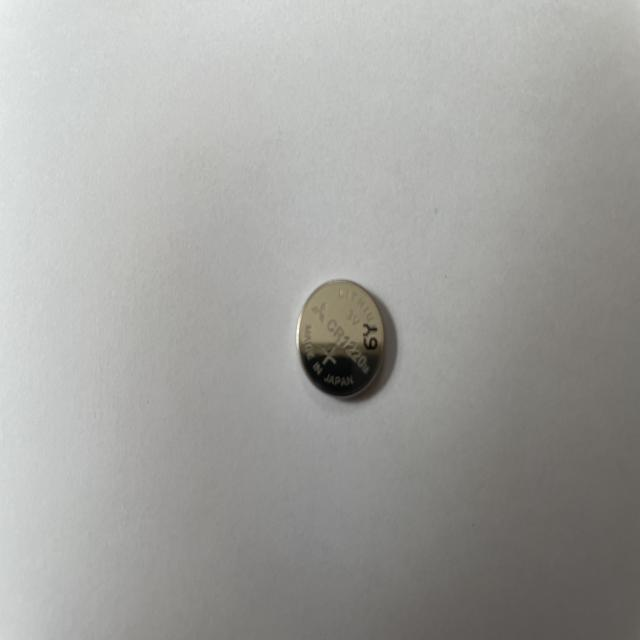COIN: (292, 275, 388, 400)
